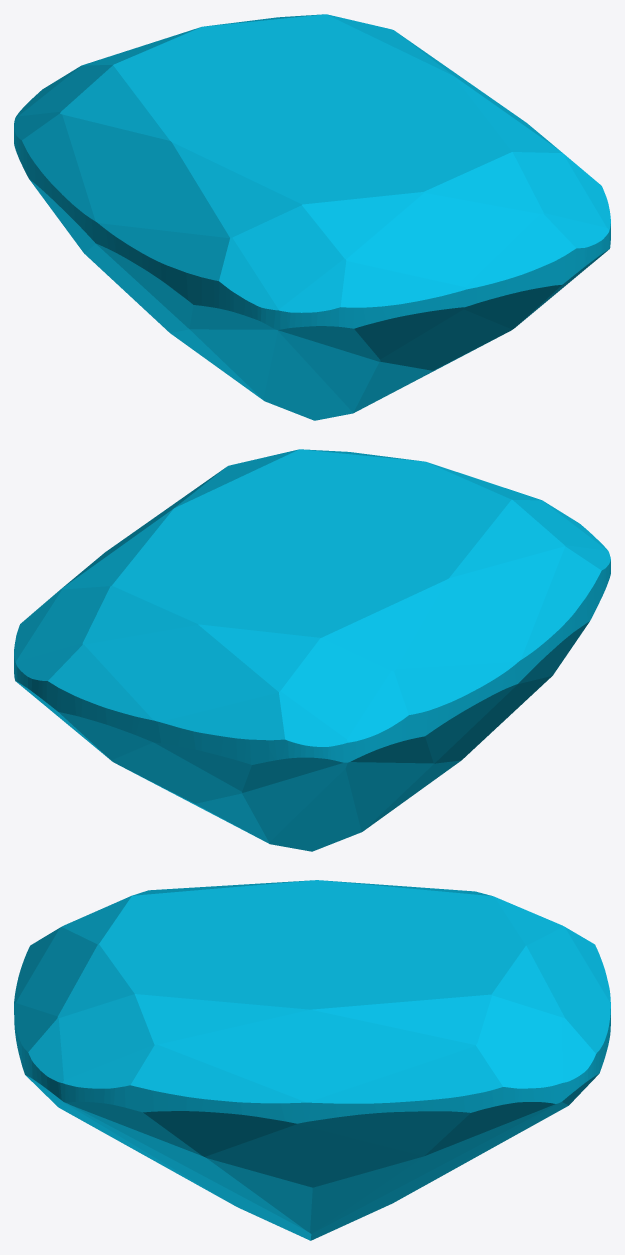
The model's file is Head_No Halo_Elongated Cushion_2.0ct_Diamond.glb.
The picture shows the model from 3 angles, top to bottom: view 1: azimuth 30°, elevation 25°; view 2: azimuth 150°, elevation 25°; view 3: azimuth 270°, elevation 25°; orthographic projection. The views are drawn at different scales.
Size of the model in its own units: 0.00682 by 0.00478 by 0.00876.
